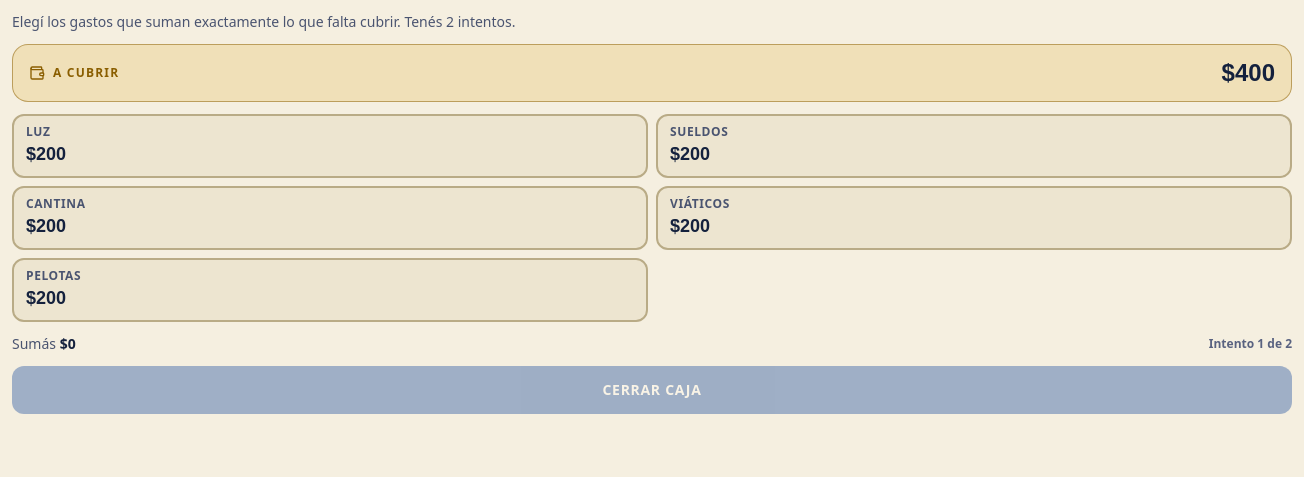
Test: cuadrar la caja (crisis de plata) › eligiendo los gastos que suman justo se gana
Click the button "Luz $200".
click(46, 154)  # box [12,114,648,178]
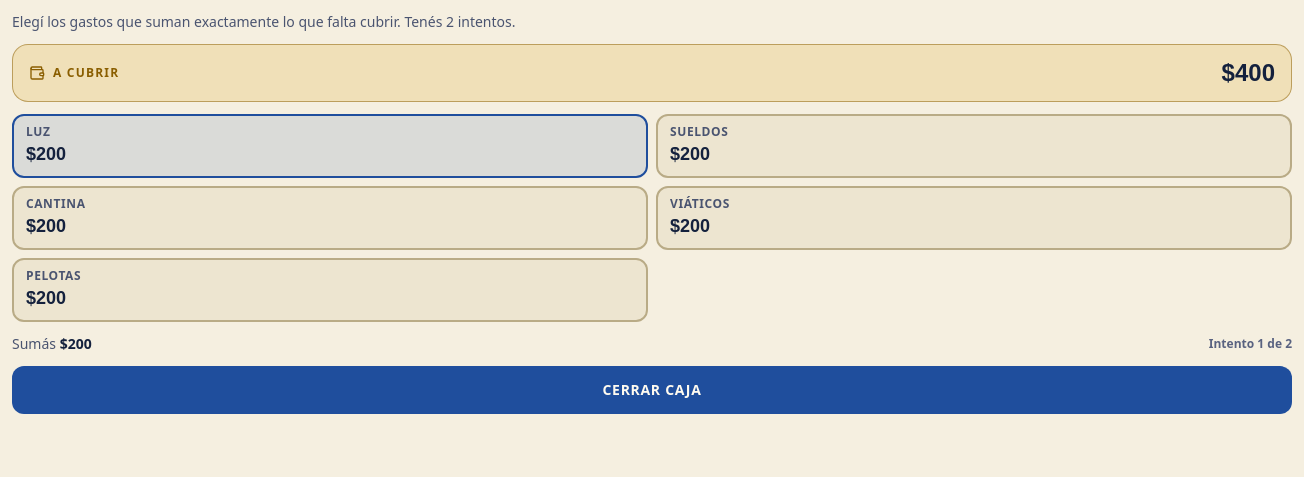
Click the button "Sueldos $200".
click(699, 132)  # box [656,114,1292,178]
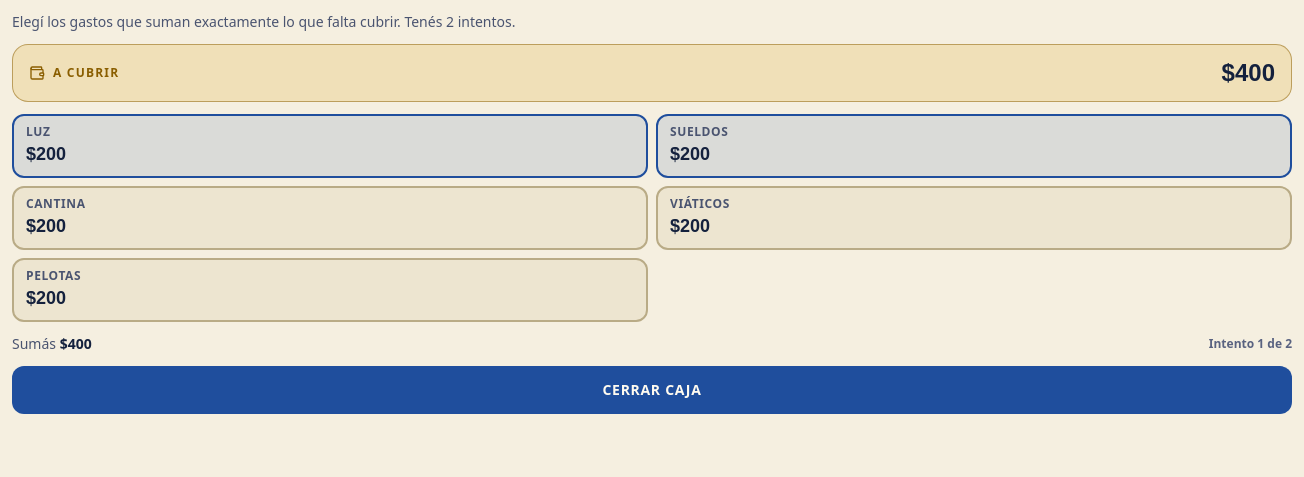
Click the button "Cerrar caja".
click(652, 390)  # box [12,366,1292,414]
Wait 800 ms
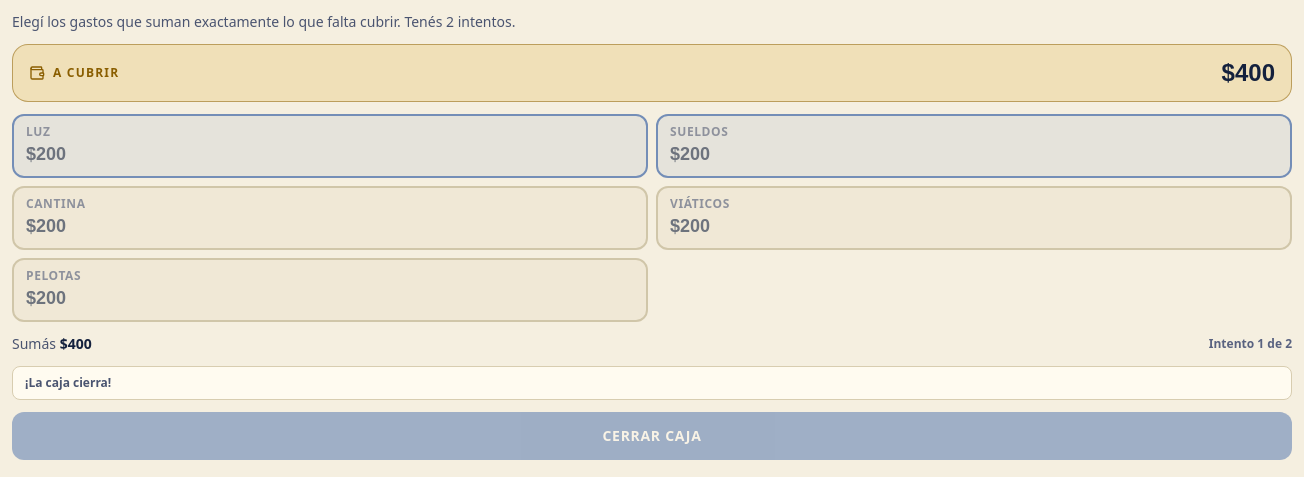
Result: the text "¡La caja cierra!" is shown at [12,366,1292,400]
